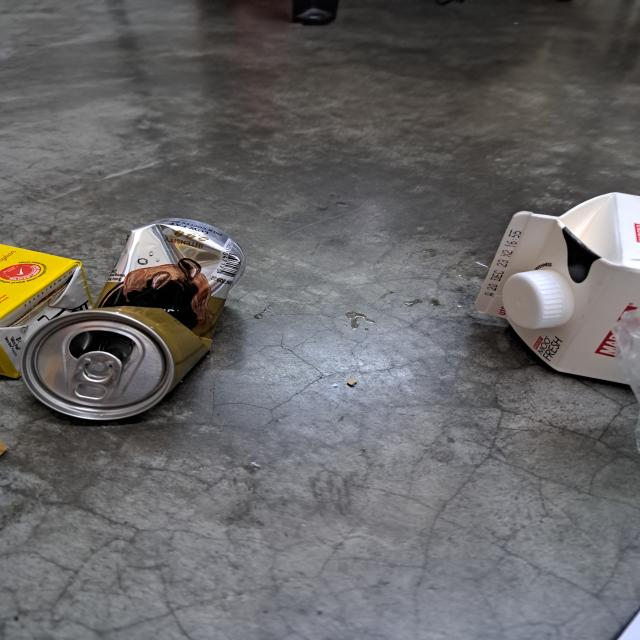can: (21, 216, 245, 423)
drink carton: (473, 192, 640, 387), (0, 241, 88, 377)
plastic bottle cap: (500, 270, 566, 329)
pop tab: (68, 352, 121, 406)
